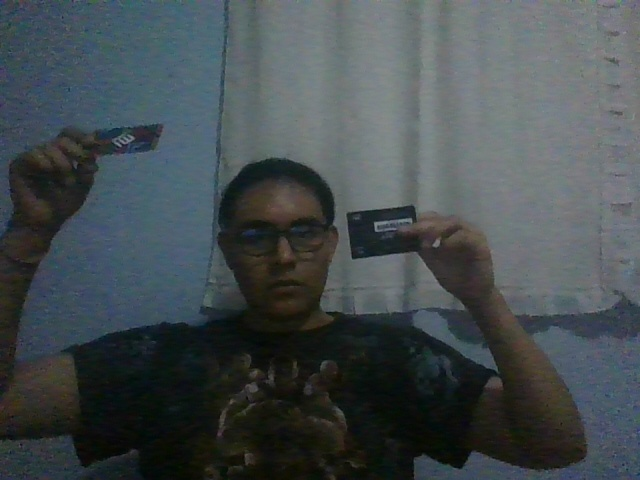tarjeta: (345, 204, 421, 261), (89, 122, 163, 158)
